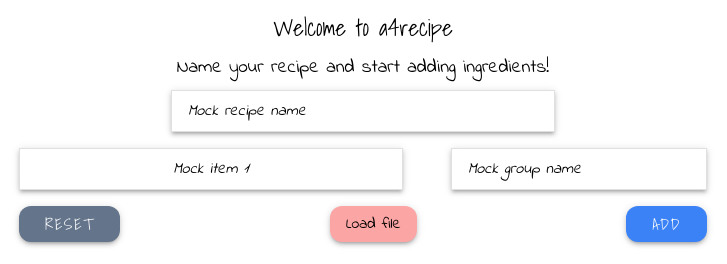
WarningSnack › should render warning snack on add button click with too many possible items condition
Step 1. Click the button "ADD" → (667, 224), box [626, 206, 707, 242]
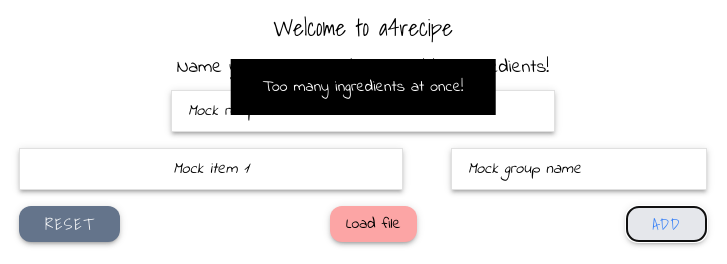
Expected: the text with test id "snack" shows "Too many ingredients", [263, 75, 463, 99]
